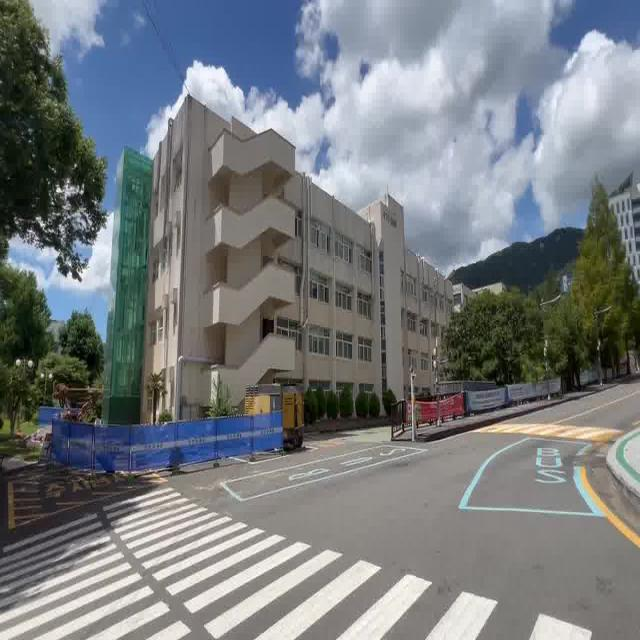building: (108, 118, 420, 404)
